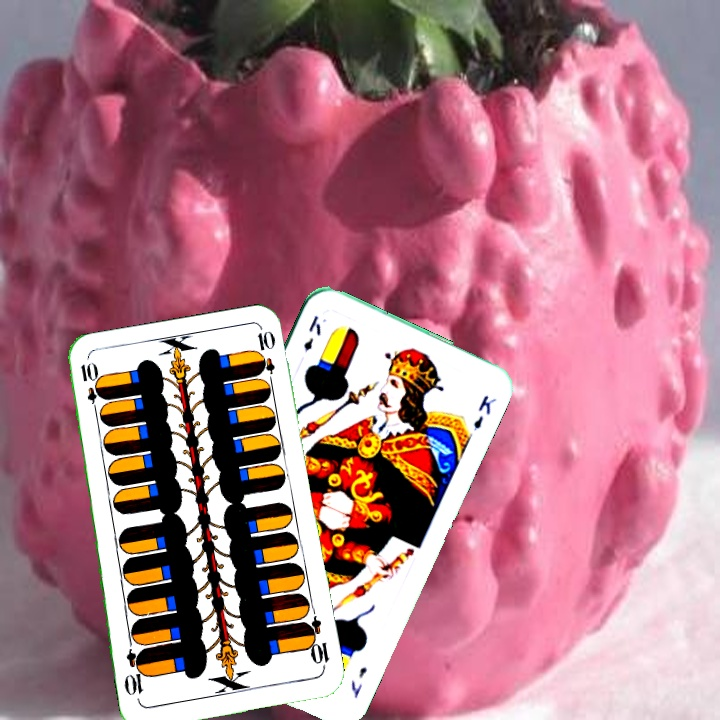E10: (300, 613, 332, 672), (76, 358, 102, 417)
EK: (299, 311, 324, 354), (346, 662, 370, 701)
